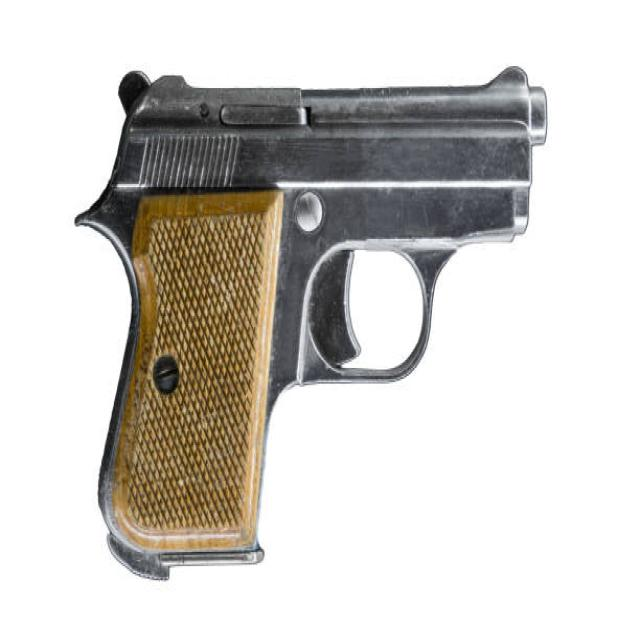pistol: (69, 56, 552, 589)
